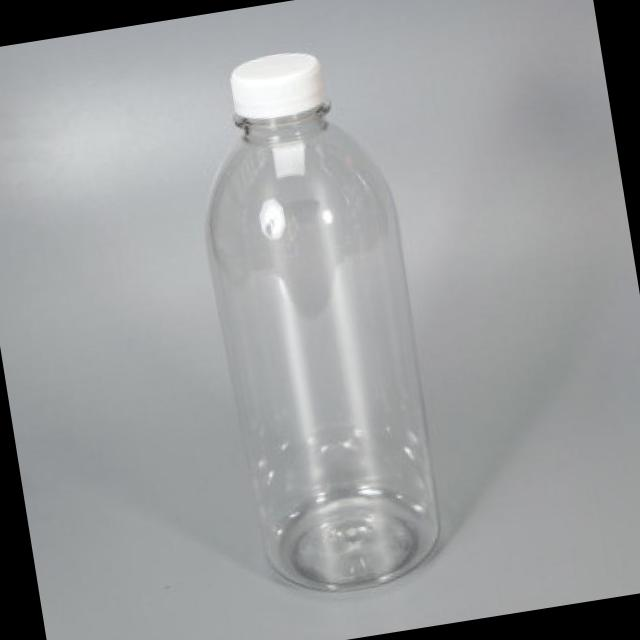plastic_bottle: (174, 39, 456, 604)
